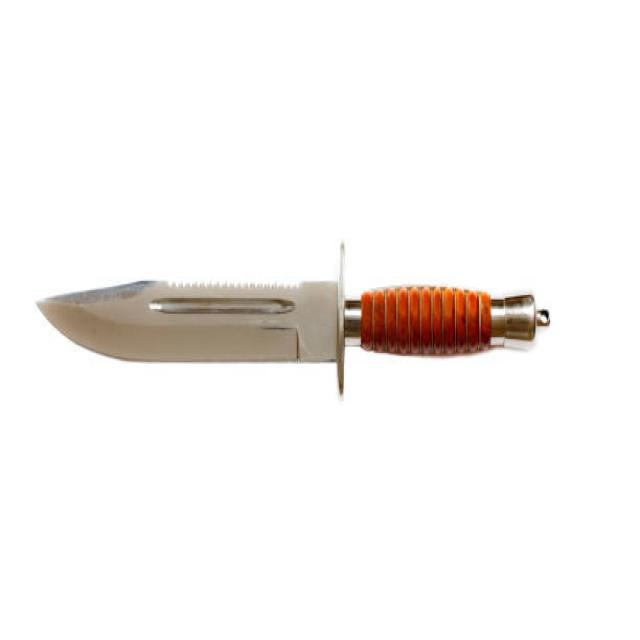knife: (32, 242, 559, 406)
